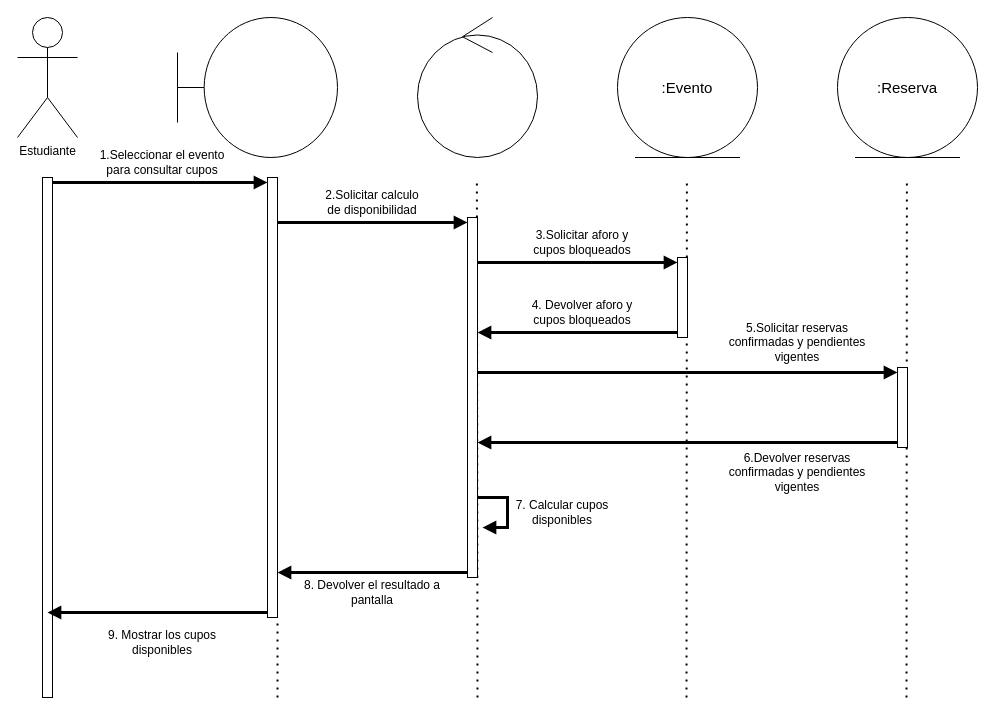
The diagram is 995 pixels wide and 717 high, and some of its shapes have lost their labels. Here are the shapes that lost their labels. From the top down, the box of each, then its label:
(176, 16, 338, 158): :PantallaEvento
(416, 16, 538, 158): :Calculo Disponibilidad
